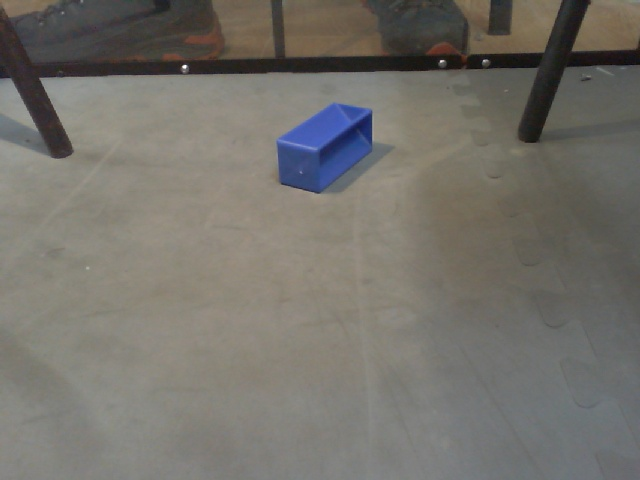BlueSample: (275, 100, 374, 195)
